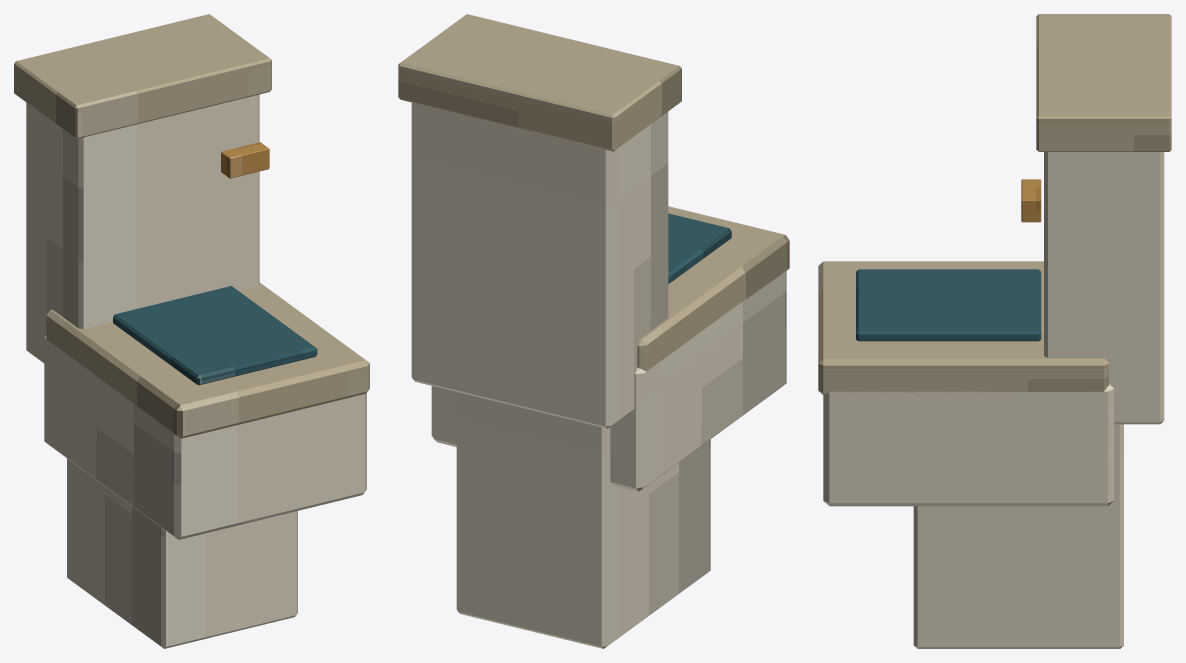
The model's file is house_toilet.glb.
3 views of the same model, side by side, from view 1: azimuth 30°, elevation 25°; view 2: azimuth 150°, elevation 25°; view 3: azimuth 270°, elevation 25° (orthographic). The views are drawn at different scales.
Visible parts, largest first — view 1: ToiletTank, ToiletBowl, ToiletPedestal, ToiletTankLid, ToiletSeat, ToiletOpening, FlushLever; view 2: ToiletTank, ToiletPedestal, ToiletTankLid, ToiletBowl, ToiletSeat, ToiletOpening; view 3: ToiletBowl, ToiletPedestal, ToiletTank, ToiletSeat, ToiletTankLid, ToiletOpening, FlushLever.
Part boxes in pixels (x1,y1,x2,y2): ToiletTank: [26, 94, 259, 363]; ToiletBowl: [44, 335, 366, 539]; ToiletPedestal: [67, 458, 297, 648]; ToiletTankLid: [14, 14, 271, 138]; ToiletSeat: [46, 282, 369, 438]; ToiletOpening: [113, 286, 317, 385]; FlushLever: [221, 142, 269, 178]; ToiletTank: [411, 102, 668, 428]; ToiletPedestal: [456, 392, 710, 648]; ToiletTankLid: [398, 14, 681, 151]; ToiletBowl: [431, 271, 786, 491]; ToiletSeat: [637, 206, 789, 371]; ToiletOpening: [668, 213, 731, 283]; ToiletBowl: [823, 384, 1113, 506]; ToiletPedestal: [913, 424, 1123, 648]; ToiletTank: [1044, 152, 1164, 424]; ToiletSeat: [818, 261, 1108, 395]; ToiletTankLid: [1036, 14, 1171, 151]; ToiletOpening: [856, 269, 1041, 341]; FlushLever: [1021, 179, 1041, 222].
Size of the model in its own units: 0.49 by 1.21 by 0.705.
1 material, 1 textured.
